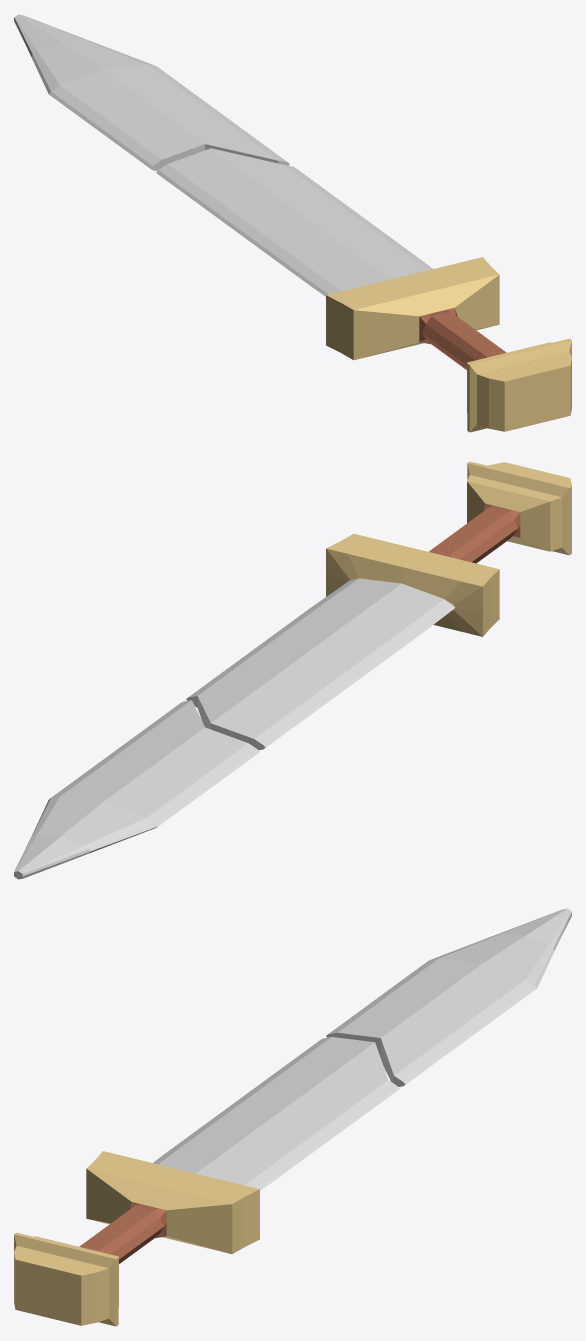
Rendered from Sword Broken 2.fbx.
3 renders of one model, top to bottom at view 1: azimuth 30°, elevation 25°; view 2: azimuth 150°, elevation 25°; view 3: azimuth 330°, elevation 25°, orthographic.
Parts seen in each view (by area): view 1: Sword.008, Sword.002; view 2: Sword.008, Sword.002; view 3: Sword.008, Sword.002.
Part boxes in pixels (x1,y1,x2,y2): Sword.008: (156, 148, 571, 432); Sword.002: (14, 14, 289, 170); Sword.008: (186, 461, 571, 750); Sword.002: (14, 700, 259, 879); Sword.008: (14, 1037, 399, 1326); Sword.002: (326, 908, 571, 1086).
Size of the model in its own units: 17.86 by 7.32 by 102.
